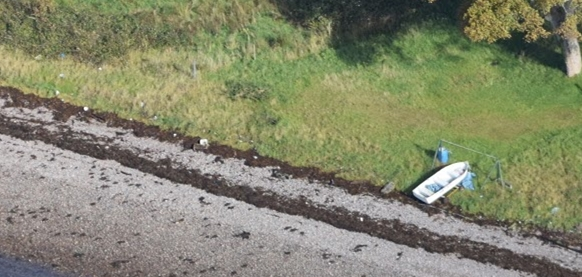boat_cabin: (408, 157, 473, 208)
scattered_barrel: (51, 44, 220, 157)
tube: (439, 126, 503, 166)
white_in_green: (427, 138, 459, 171)
